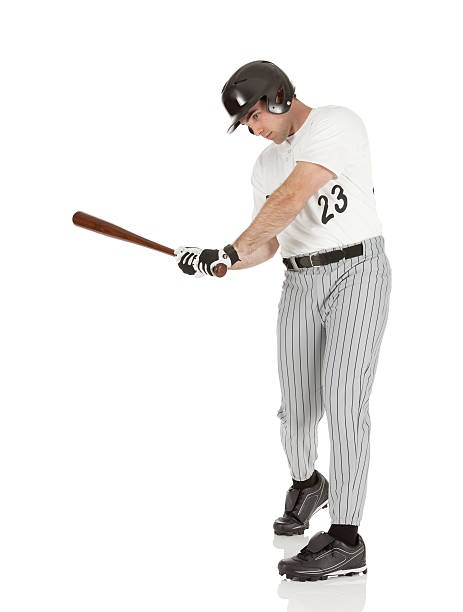bita: (71, 204, 231, 277)
